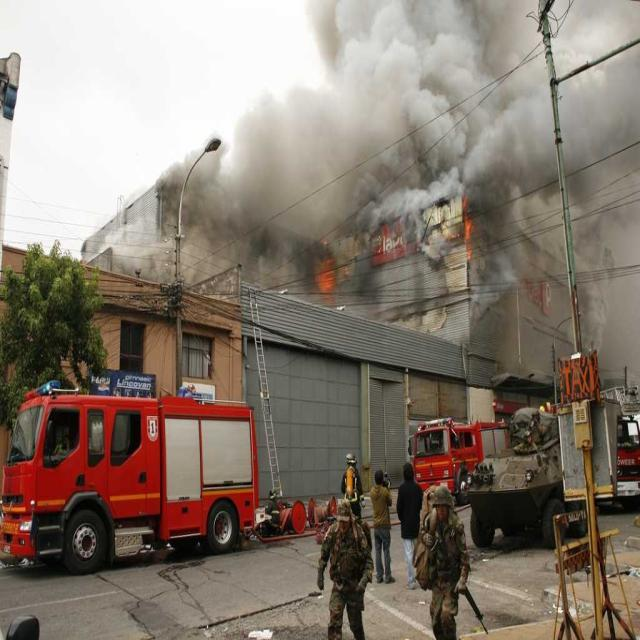Fire: (312, 246, 338, 292), (462, 211, 476, 251)
Smoke: (366, 8, 528, 182), (242, 105, 360, 226)
